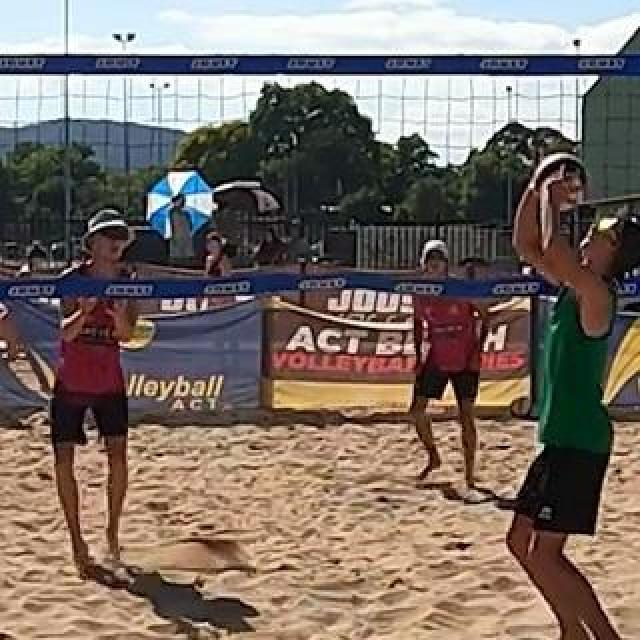volleyball: (531, 151, 587, 211)
